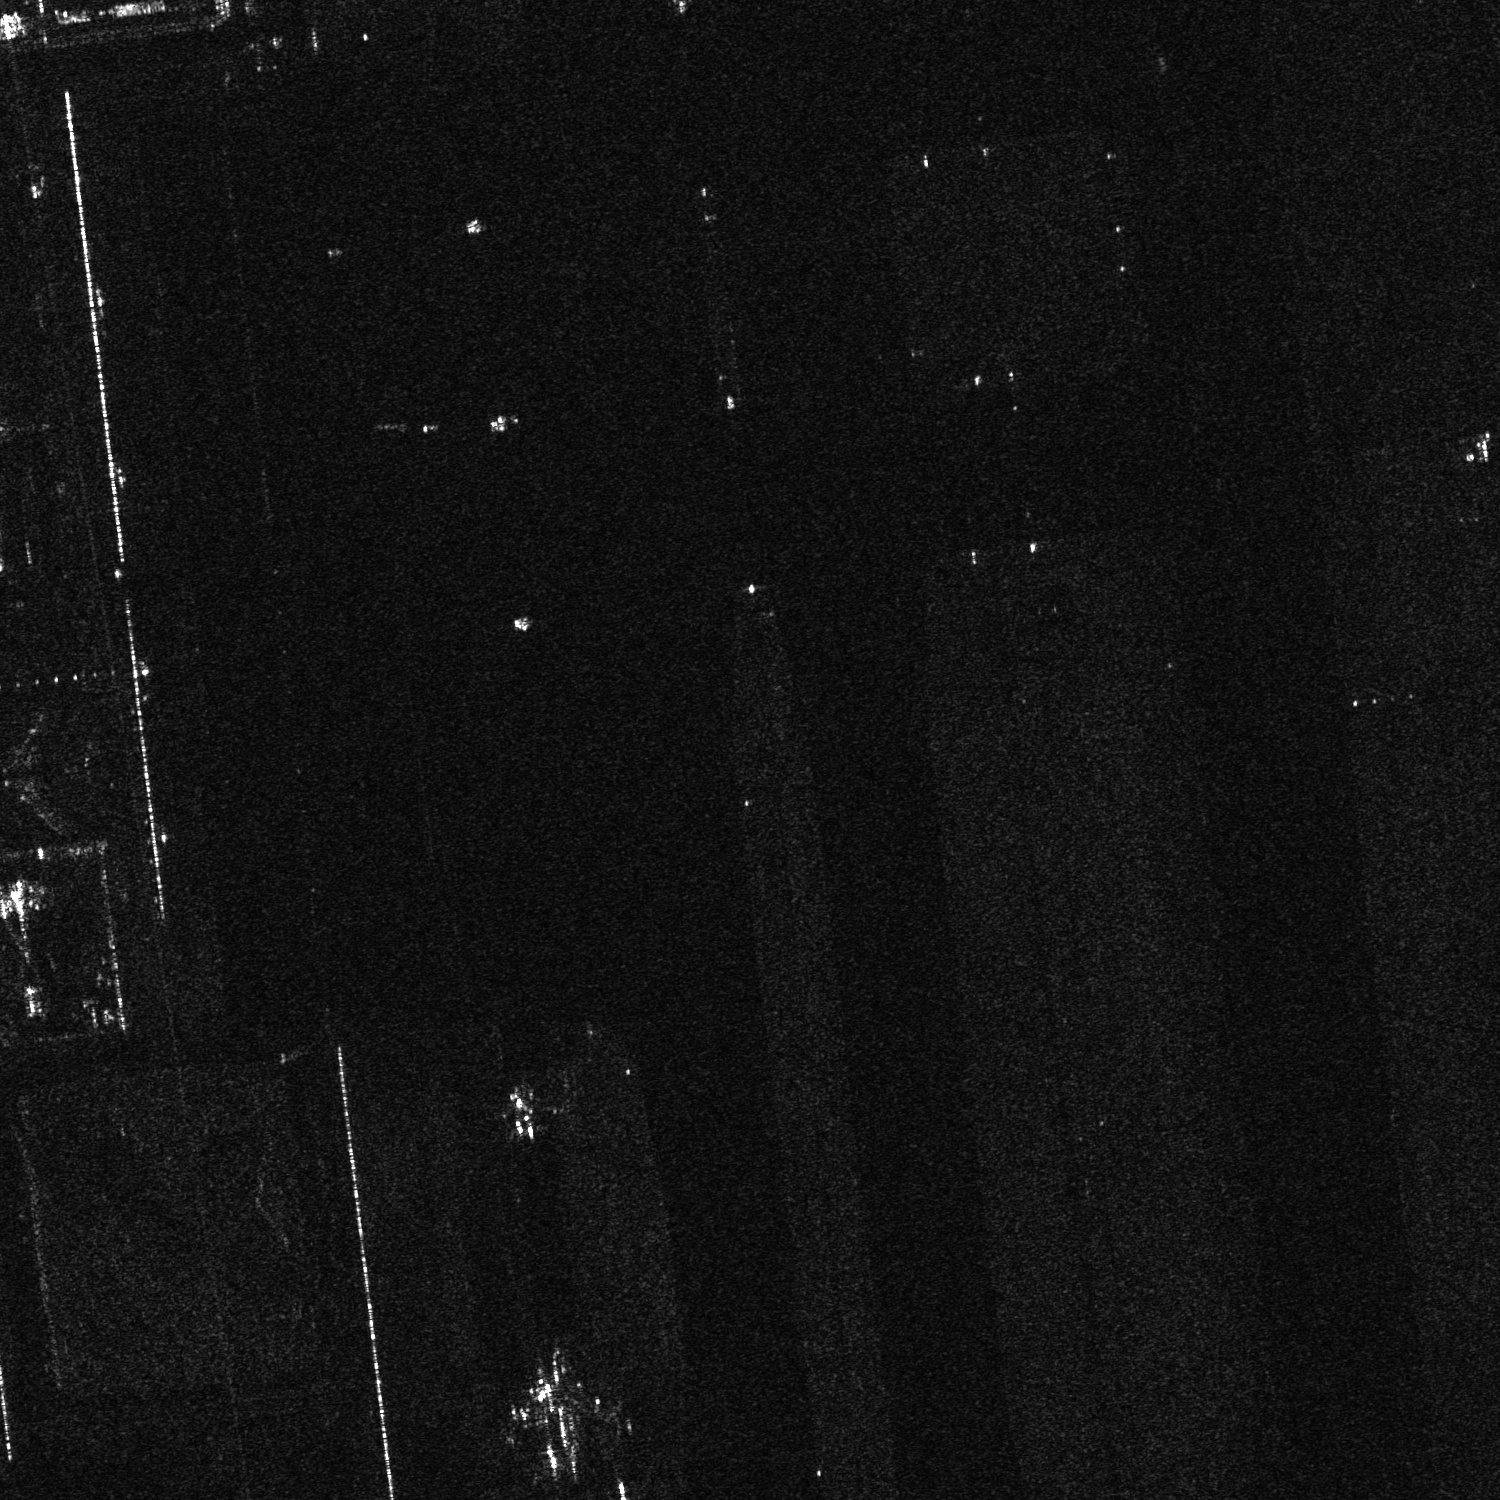A220: (479, 1076, 558, 1148)
other: (484, 1354, 632, 1488)
